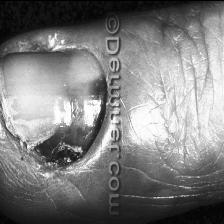Toxin: (0, 40, 105, 172)
